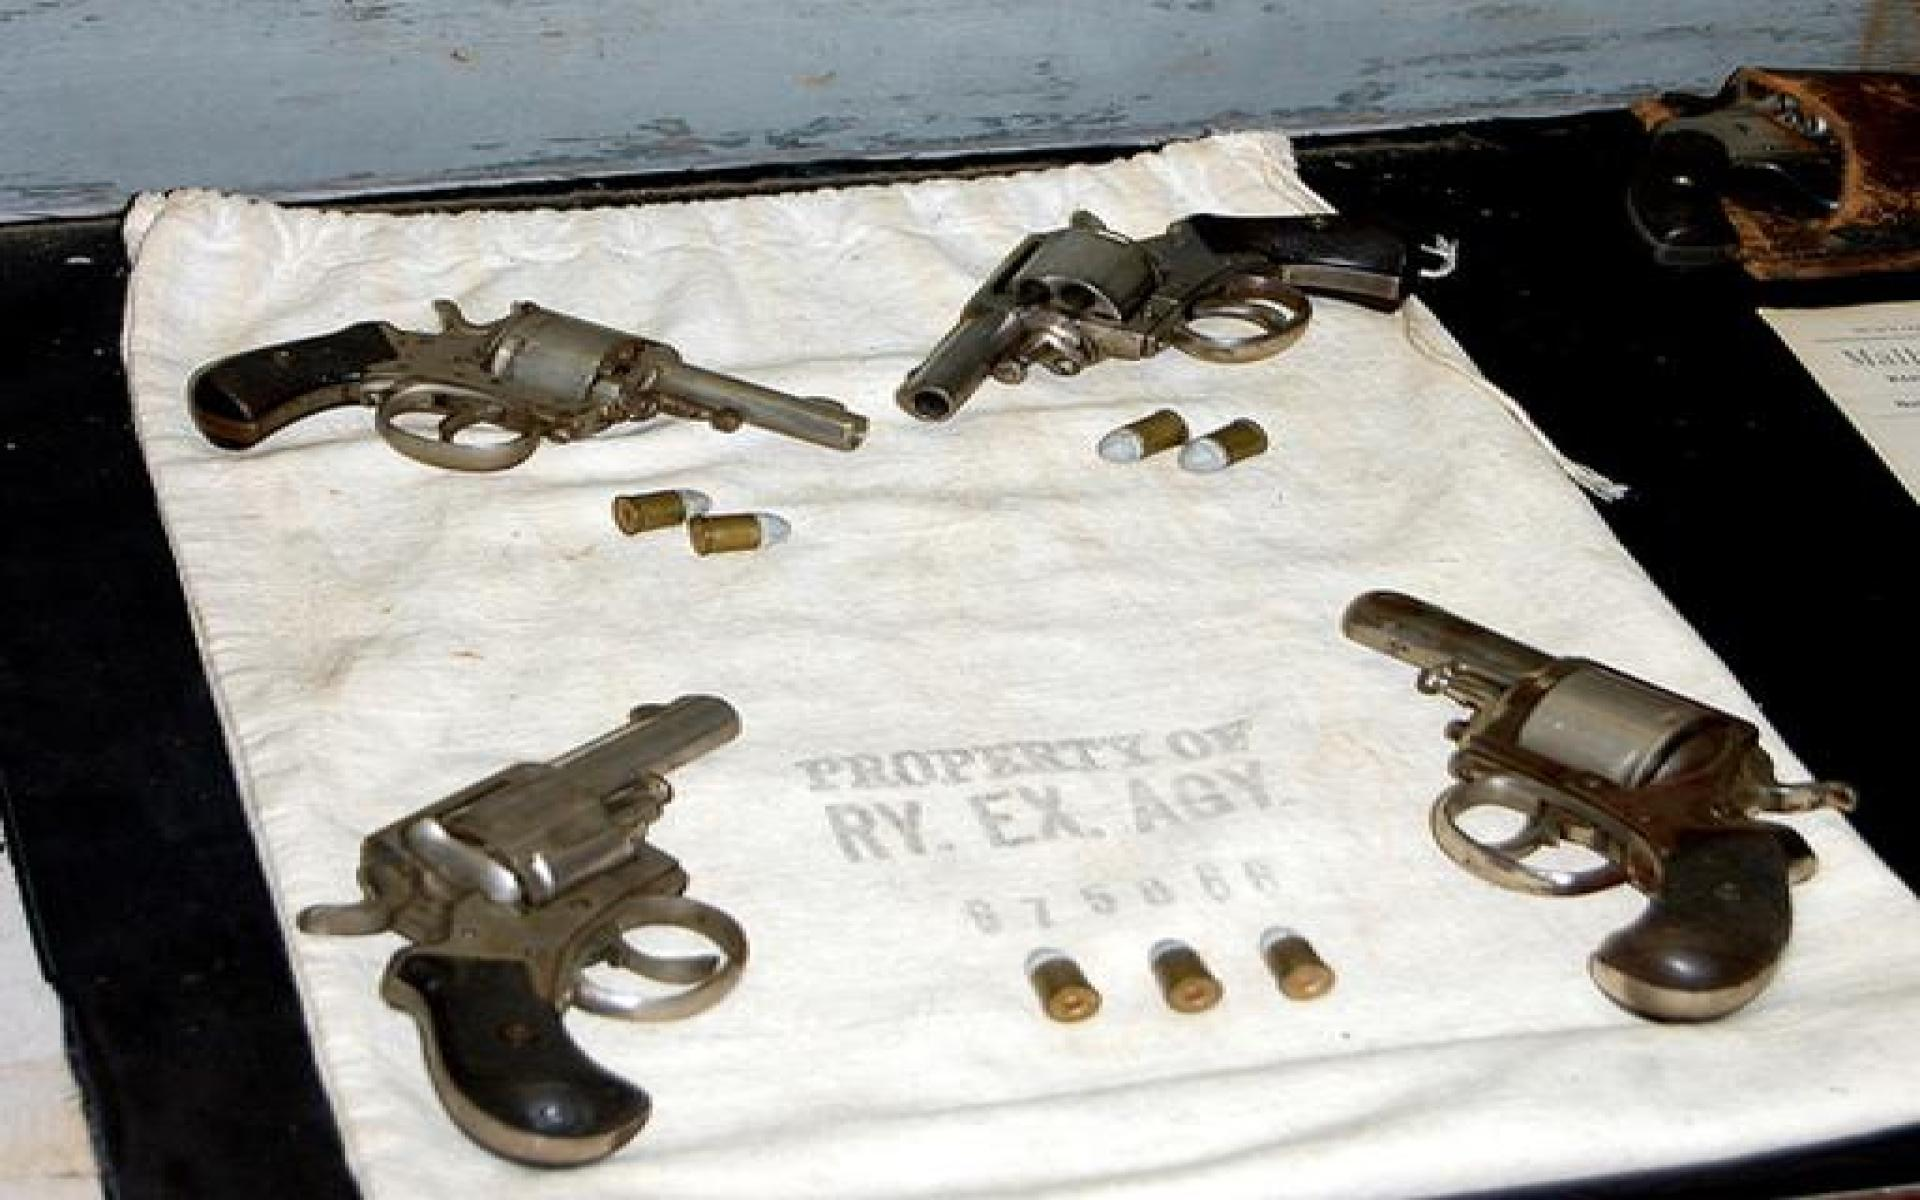gun: (1316, 583, 1861, 1029), (285, 680, 751, 1170), (900, 195, 1410, 419), (184, 300, 863, 462), (1624, 54, 1916, 274)
